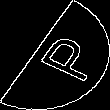P_NW: (16, 26, 94, 84)
